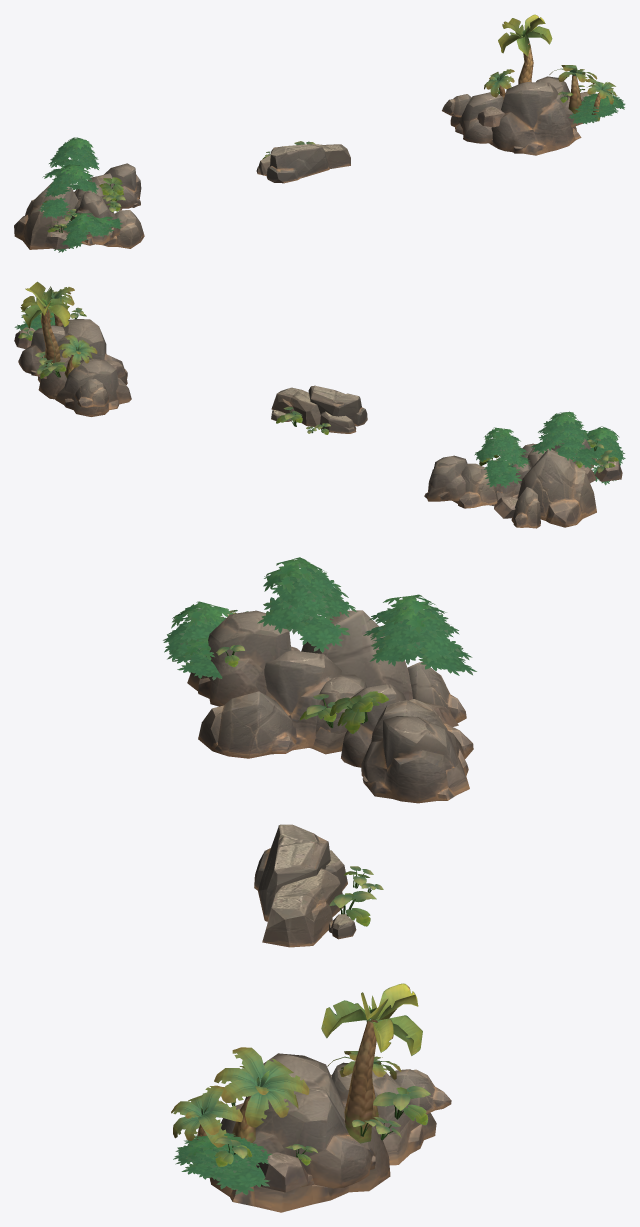
The model's file is pref_sm_4v4pointbake_WSJ_CSD_X_lv1.fbx.
3 renders of one model, top to bottom at view 1: azimuth 30°, elevation 25°; view 2: azimuth 150°, elevation 25°; view 3: azimuth 270°, elevation 25°, orthographic. The views are drawn at different scales.
Visible parts, largest first — view 1: sm_4v4pointbake_WSJ_CSD_X_a_lv1, sm_4v4pointbake_WSJ_CSD_X_a_lv1_1; view 2: sm_4v4pointbake_WSJ_CSD_X_a_lv1, sm_4v4pointbake_WSJ_CSD_X_a_lv1_1; view 3: sm_4v4pointbake_WSJ_CSD_X_a_lv1, sm_4v4pointbake_WSJ_CSD_X_a_lv1_1.
Part boxes in pixels (<box>): sm_4v4pointbake_WSJ_CSD_X_a_lv1: <box>14,76,595,249</box>; sm_4v4pointbake_WSJ_CSD_X_a_lv1_1: <box>38,14,625,252</box>; sm_4v4pointbake_WSJ_CSD_X_a_lv1: <box>14,319,622,528</box>; sm_4v4pointbake_WSJ_CSD_X_a_lv1_1: <box>14,281,625,488</box>; sm_4v4pointbake_WSJ_CSD_X_a_lv1: <box>187,610,473,1212</box>; sm_4v4pointbake_WSJ_CSD_X_a_lv1_1: <box>163,557,476,1195</box>.
Size of the model in its own units: 41.84 by 7.06 by 9.96.
